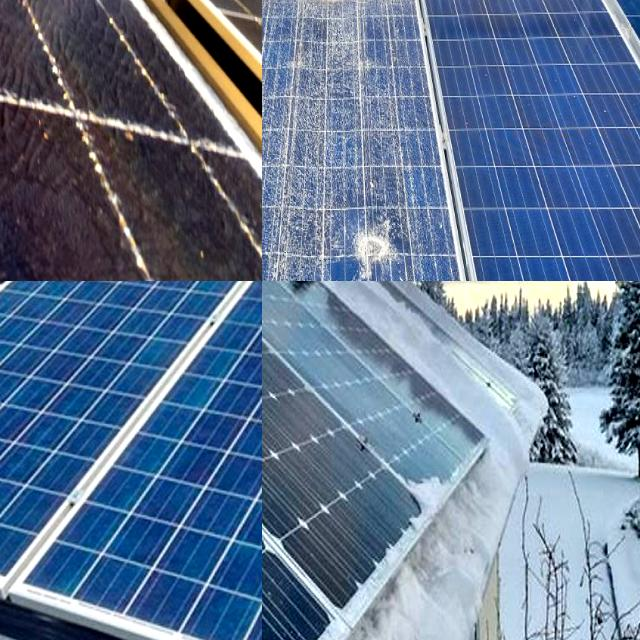crack: (0, 281, 262, 640), (0, 281, 262, 393)
hotspot: (347, 203, 416, 281)
panel: (398, 438, 456, 524)
